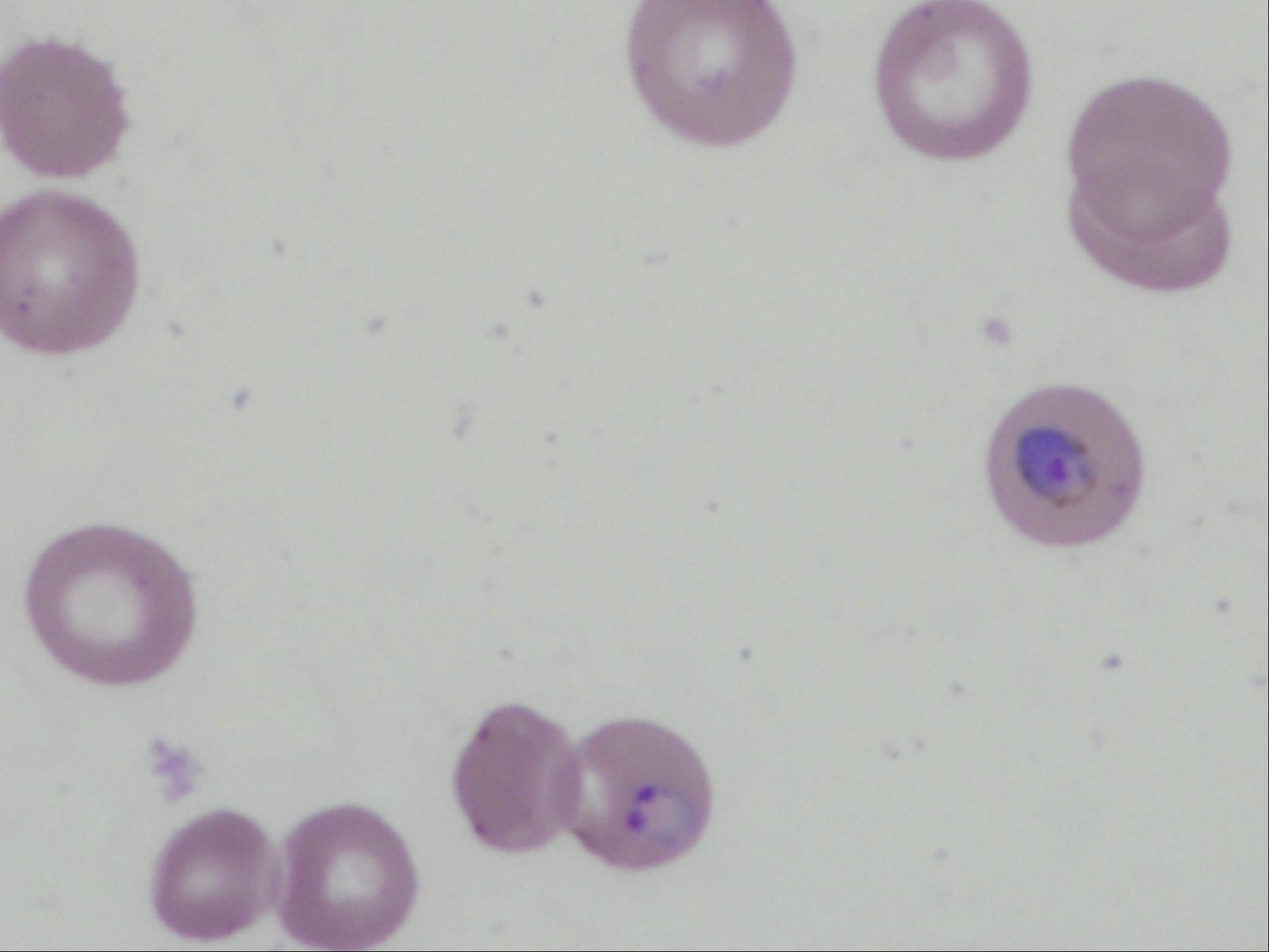Infected: (555, 721, 720, 874), (989, 380, 1138, 548)
Uninfected: (1067, 79, 1231, 243), (31, 529, 197, 686), (874, 1, 1033, 157), (629, 1, 792, 143), (0, 193, 137, 353), (278, 805, 421, 952), (458, 703, 586, 849), (0, 39, 126, 175), (151, 811, 276, 942)
